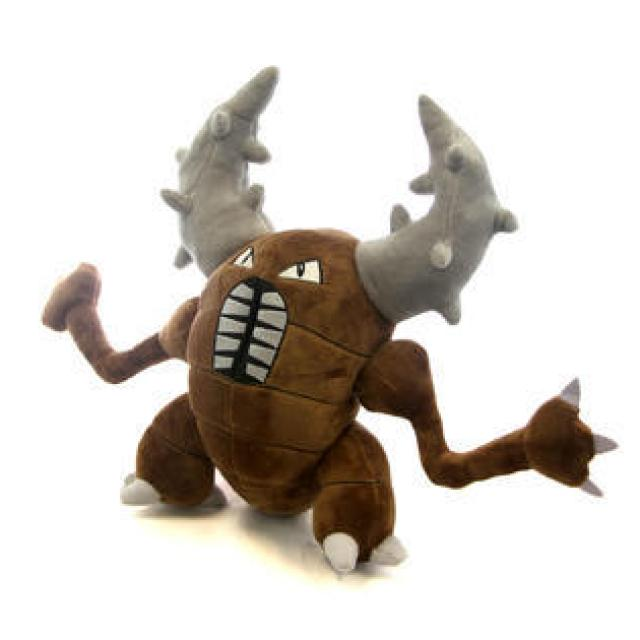Pinsir: (116, 90, 512, 571)
